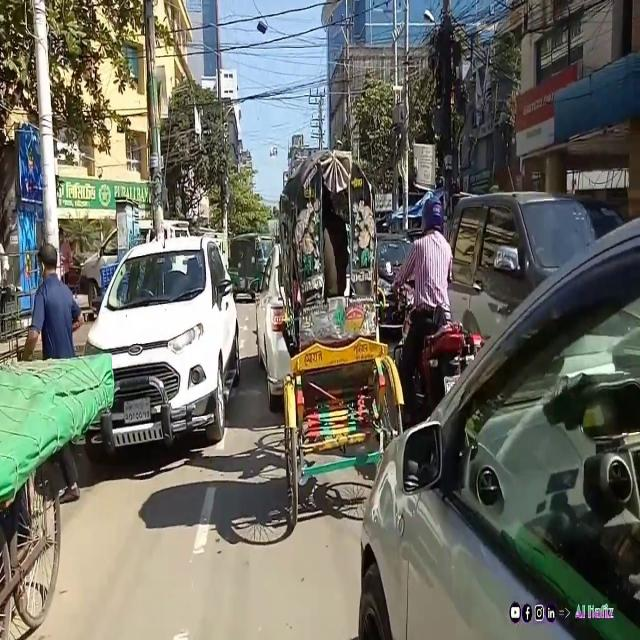black: (444, 182, 606, 382)
white: (79, 239, 247, 469)
